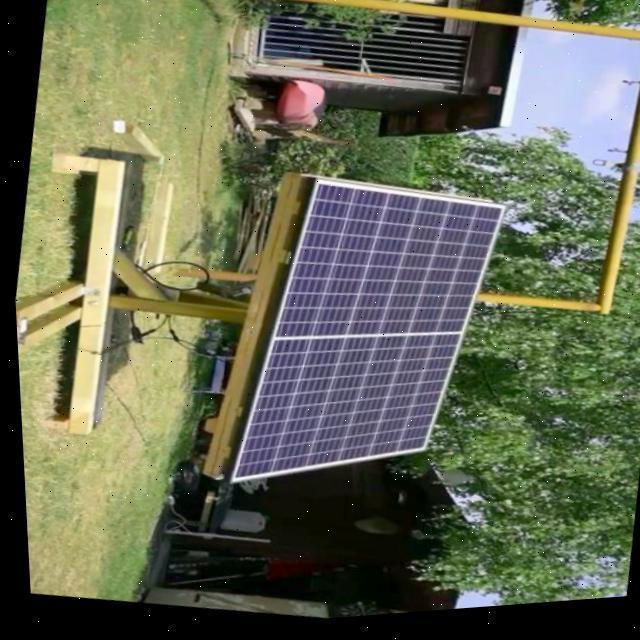Normal Solar Panel: (212, 164, 513, 523)
